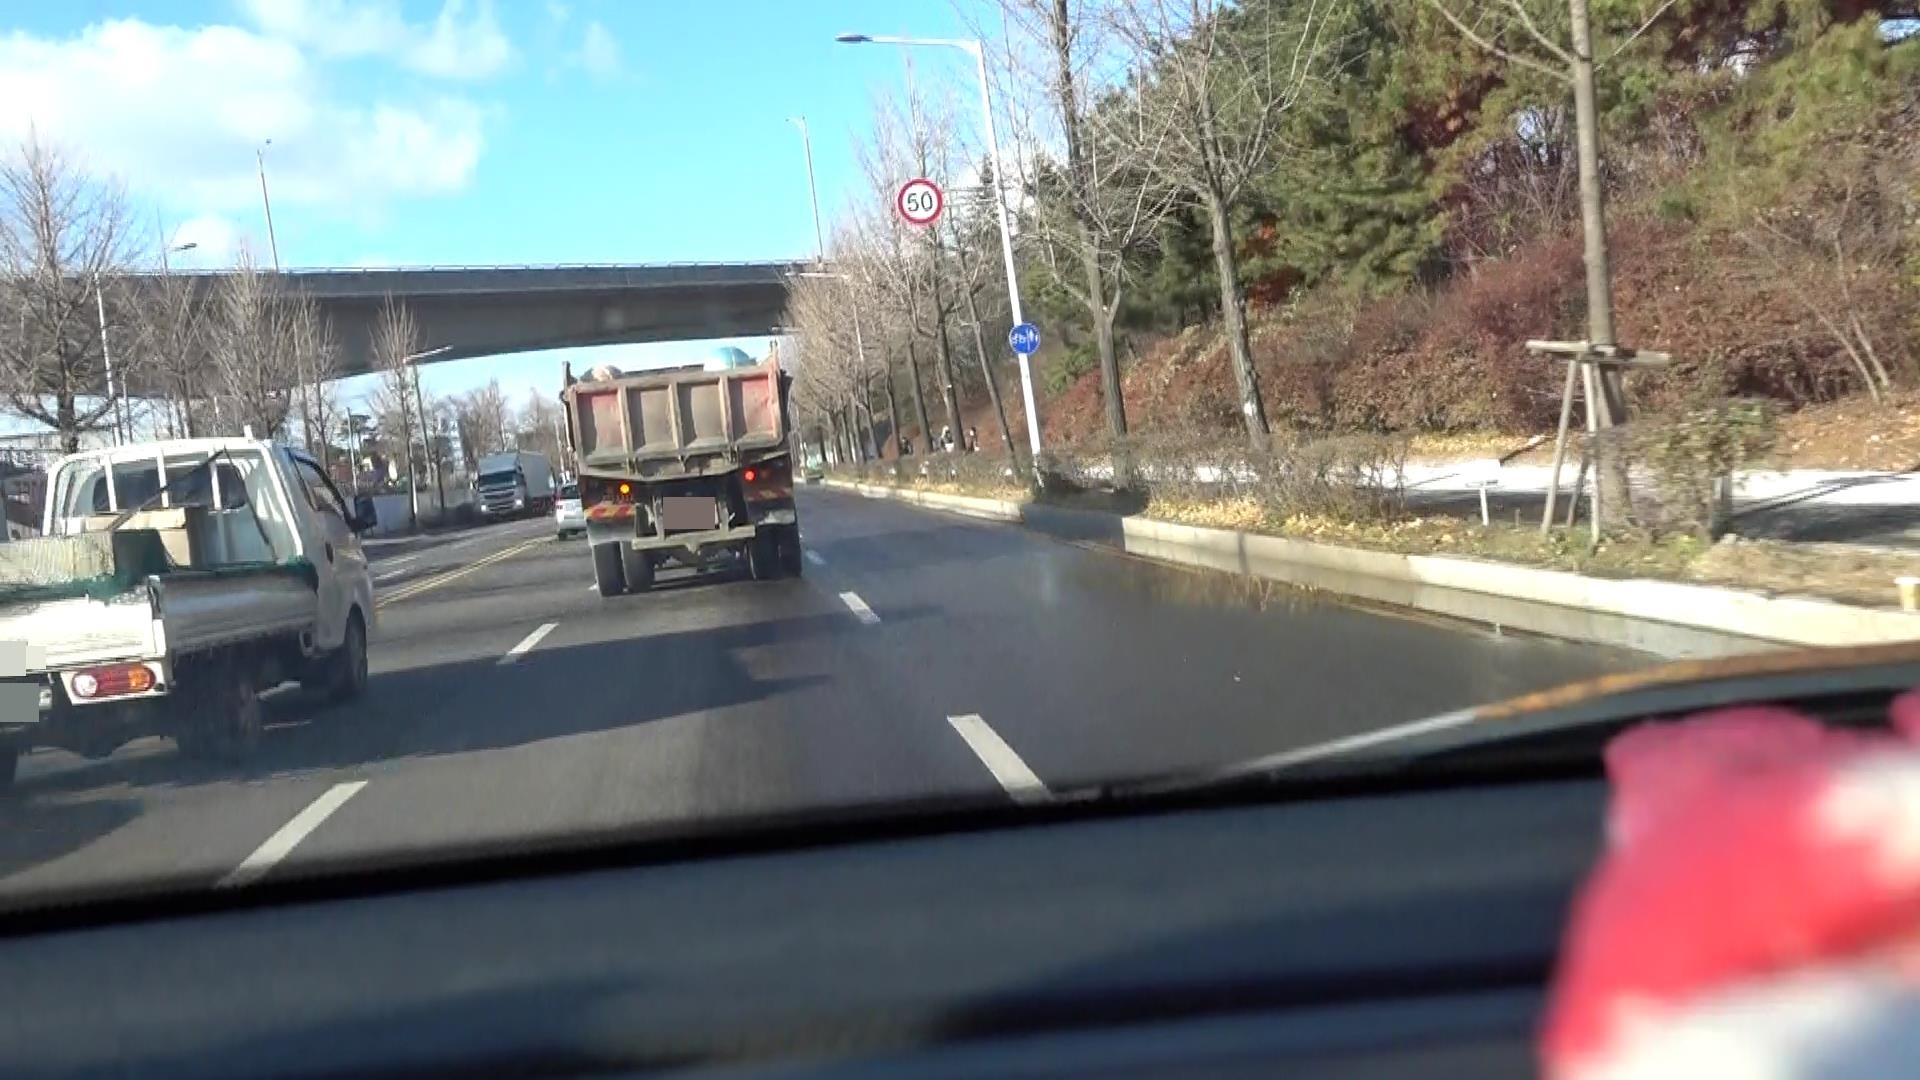불법차량: (558, 339, 803, 597)
